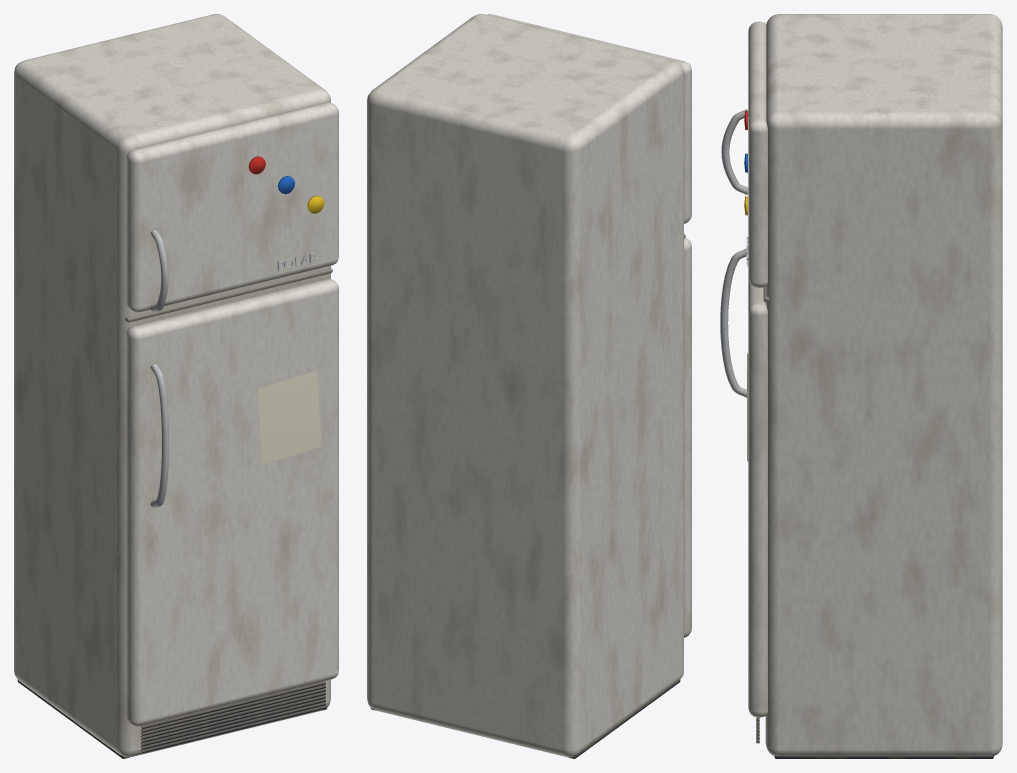
File: dom_lodowka.glb
The picture shows the model from 3 angles, left to right: view 1: azimuth 30°, elevation 25°; view 2: azimuth 150°, elevation 25°; view 3: azimuth 270°, elevation 25°; orthographic projection. The views are drawn at different scales.
Visible parts, largest first — view 1: Lodowka, Drobiazgi; view 2: Lodowka; view 3: Lodowka, Drobiazgi.
Boxes of the visible parts, bbox=[...] form: Lodowka: bbox=[14, 14, 338, 758]; Drobiazgi: bbox=[248, 156, 324, 464]; Lodowka: bbox=[367, 14, 691, 758]; Lodowka: bbox=[720, 14, 1002, 758]; Drobiazgi: bbox=[744, 111, 748, 461].
Bounding box in the file's own units: 0.58 × 1.62 × 0.6439.
Materials: 6 (1 with a texture image).
